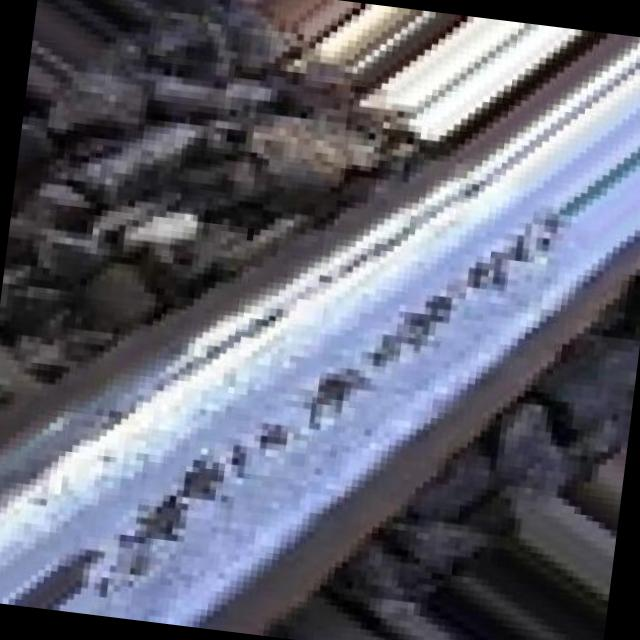defective: (0, 44, 621, 640)
